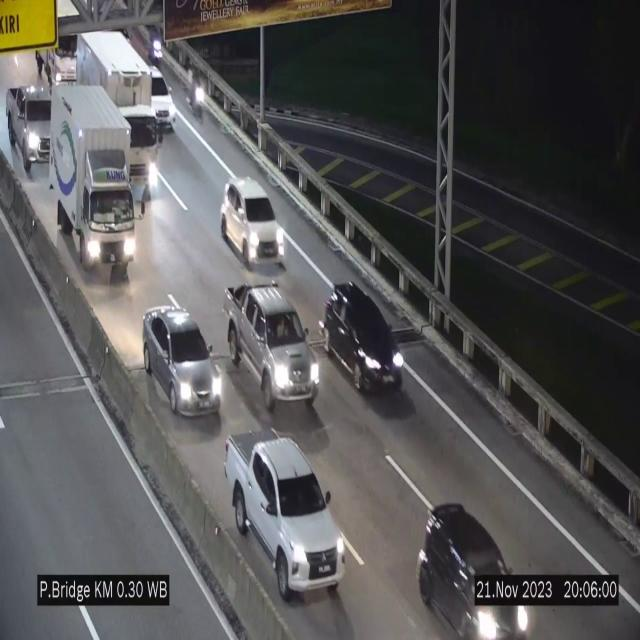Car: (218, 429, 349, 600), (406, 475, 527, 640), (225, 281, 320, 407), (323, 274, 405, 404), (143, 306, 223, 418), (220, 177, 284, 268), (5, 84, 52, 174), (145, 60, 175, 138)
Motorcycle: (189, 65, 208, 131)
Truck: (49, 81, 140, 280), (74, 31, 160, 198), (37, 0, 85, 100)
